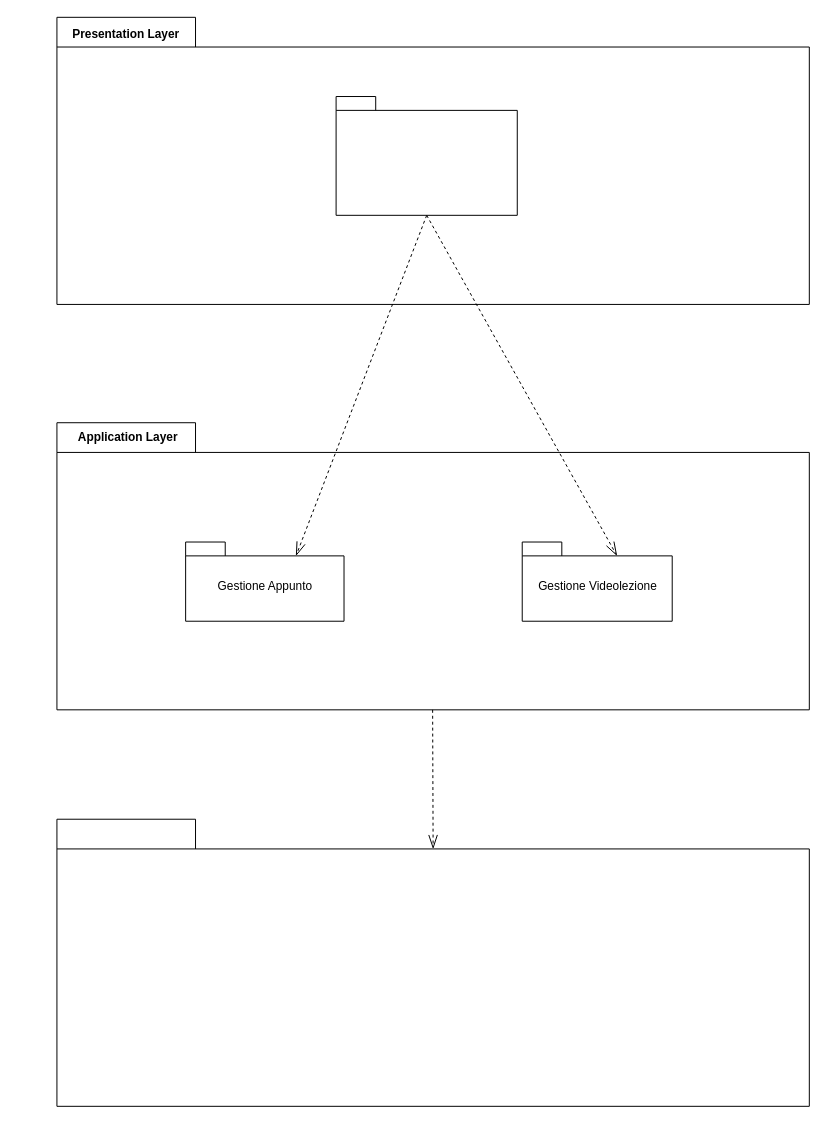
Image size: 827x1124. Some labels were removed from this diagram. Each missing label, with the centre of its shape:
Moderatore Catalogo: the point at 426,155
Storage Layer: the point at 432,962
